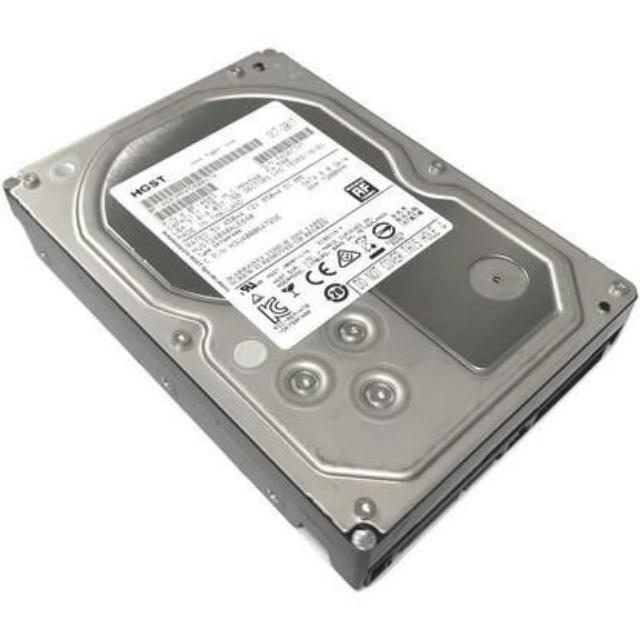DISK: (9, 33, 640, 596)
